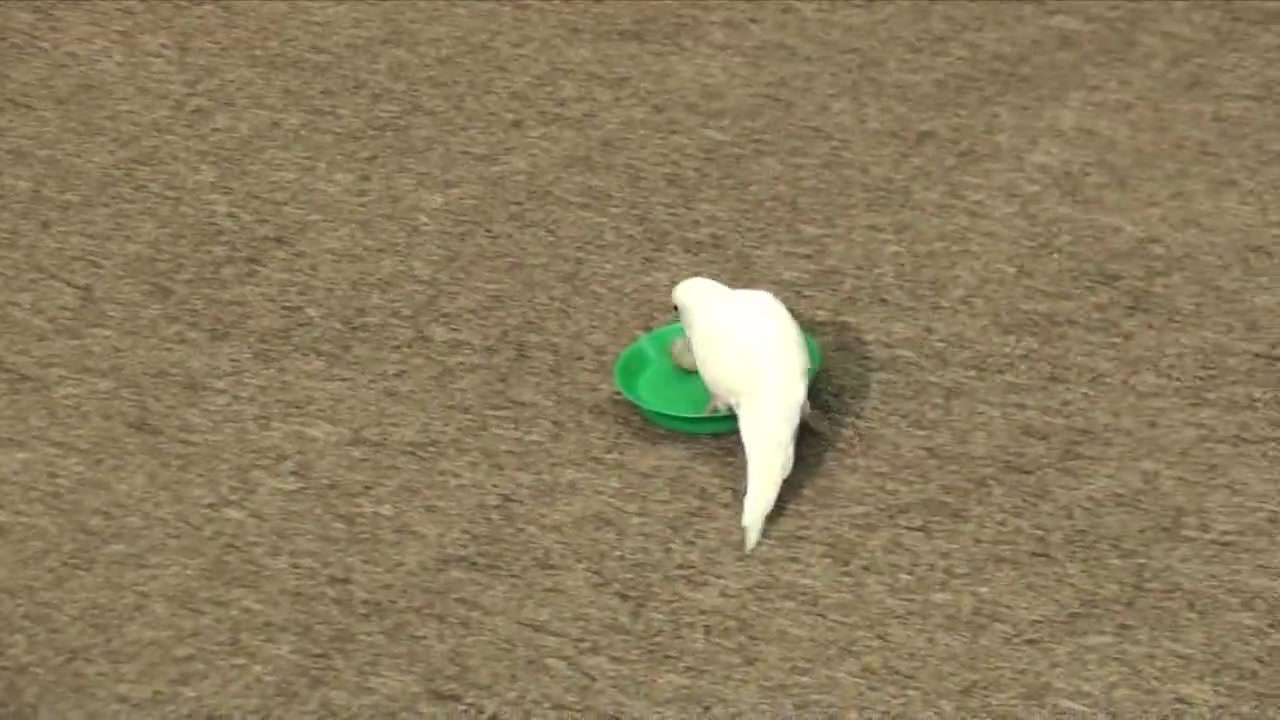bird: (671, 277, 819, 556)
